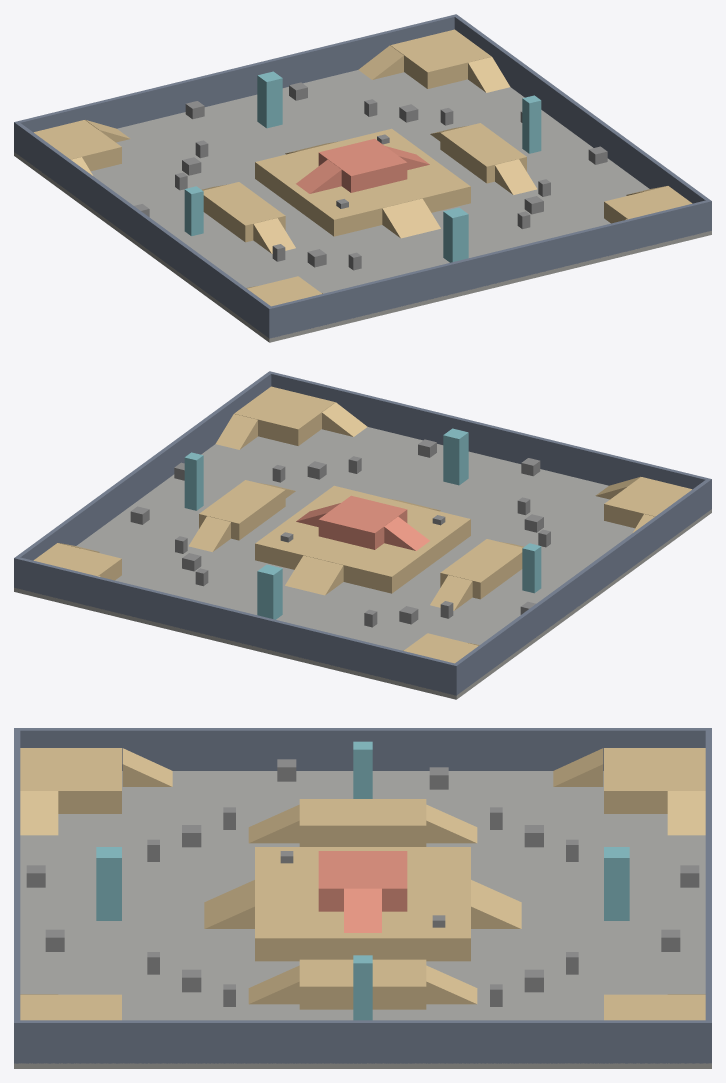
The model's file is deathmatch.glb.
3 renders of one model, top to bottom at view 1: azimuth 30°, elevation 25°; view 2: azimuth 150°, elevation 25°; view 3: azimuth 270°, elevation 25°, orthographic. The views are drawn at different scales.
Visible parts, largest first — view 1: Floor-col, Wall_S-col, Wall_N-col, Centre_Plinth-col, Wall_W-col, Wall_E-col, Bastion_NE-col, Centre_Tower-col, Island_E-col, Island_W-col, Bastion_NW-col, Bastion_SE-col (+11 smaller); view 2: Floor-col, Wall_N-col, Wall_S-col, Centre_Plinth-col, Wall_W-col, Wall_E-col, Bastion_SE-col, Centre_Tower-col, Island_E-col, Island_W-col, Bastion_SW-col, Bastion_NE-col (+11 smaller); view 3: Floor-col, Wall_E-col, Wall_W-col, Centre_Plinth-col, Island_W-col, Bastion_NW-col, Bastion_SW-col, Island_E-col, Centre_Tower-col, Bastion_NE-col, Bastion_SE-col, Wall_N-col (+16 smaller).
Boxes of the visible parts, x1=… form: Floor-col: x1=14, y1=70, x2=711, y2=342; Wall_S-col: x1=267, y1=199, x2=711, y2=338; Wall_N-col: x1=14, y1=14, x2=458, y2=152; Centre_Plinth-col: x1=255, y1=128, x2=470, y2=236; Wall_W-col: x1=16, y1=123, x2=270, y2=336; Wall_E-col: x1=454, y1=16, x2=709, y2=203; Bastion_NE-col: x1=390, y1=29, x2=491, y2=88; Centre_Tower-col: x1=318, y1=138, x2=407, y2=192; Island_E-col: x1=440, y1=123, x2=526, y2=183; Island_W-col: x1=203, y1=182, x2=285, y2=242; Bastion_NW-col: x1=34, y1=120, x2=121, y2=171; Bastion_SE-col: x1=604, y1=186, x2=692, y2=223; Floor-col: x1=14, y1=427, x2=711, y2=699; Wall_N-col: x1=14, y1=556, x2=458, y2=695; Wall_S-col: x1=267, y1=371, x2=711, y2=510; Centre_Plinth-col: x1=255, y1=485, x2=470, y2=593; Wall_W-col: x1=455, y1=480, x2=709, y2=693; Wall_E-col: x1=16, y1=373, x2=271, y2=560; Bastion_SE-col: x1=234, y1=386, x2=335, y2=445; Centre_Tower-col: x1=318, y1=495, x2=407, y2=549; Island_E-col: x1=199, y1=480, x2=285, y2=540; Island_W-col: x1=440, y1=539, x2=522, y2=599; Bastion_SW-col: x1=604, y1=477, x2=691, y2=528; Bastion_NE-col: x1=33, y1=543, x2=121, y2=580; Floor-col: x1=14, y1=771, x2=711, y2=1068; Wall_E-col: x1=20, y1=1020, x2=705, y2=1063; Wall_W-col: x1=20, y1=728, x2=705, y2=770; Centre_Plinth-col: x1=255, y1=847, x2=470, y2=961; Island_W-col: x1=299, y1=799, x2=426, y2=846; Bastion_NW-col: x1=604, y1=748, x2=705, y2=813; Bastion_SW-col: x1=20, y1=748, x2=121, y2=813; Island_E-col: x1=299, y1=959, x2=426, y2=1009; Centre_Tower-col: x1=318, y1=851, x2=407, y2=911; Bastion_NE-col: x1=604, y1=994, x2=705, y2=1020; Bastion_SE-col: x1=20, y1=994, x2=121, y2=1020; Wall_N-col: x1=705, y1=728, x2=711, y2=1063.
Bounding box in the file's own units: 110 × 13 × 110.
